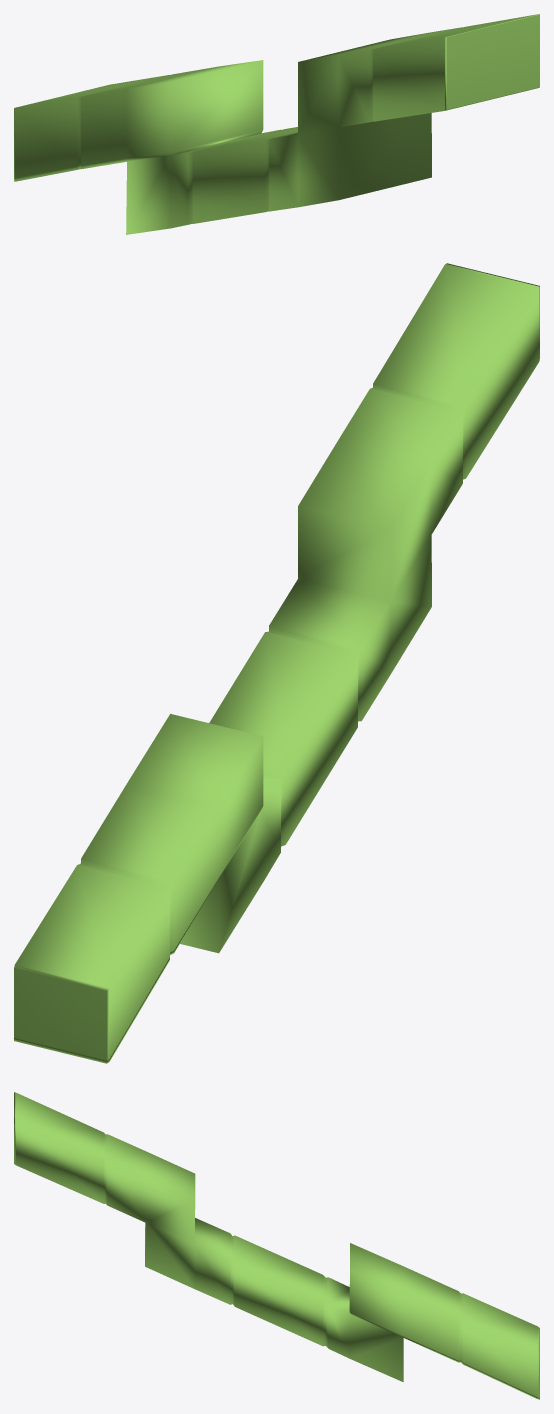
File: Wall_Battlements_01_D_Lod0.fbx
3 renders of one model, top to bottom at view 1: azimuth 30°, elevation 25°; view 2: azimuth 150°, elevation 25°; view 3: azimuth 270°, elevation 25°, orthographic. The views are drawn at different scales.
Visible parts, largest first — view 1: Wall_Battlements_01_D_Lod0; view 2: Wall_Battlements_01_D_Lod0; view 3: Wall_Battlements_01_D_Lod0.
Part boxes in pixels (x1=…): Wall_Battlements_01_D_Lod0: x1=14, y1=14, x2=539, y2=234; Wall_Battlements_01_D_Lod0: x1=14, y1=263, x2=539, y2=1063; Wall_Battlements_01_D_Lod0: x1=14, y1=1092, x2=539, y2=1399.
Size of the model in its own units: 38.29 by 178 by 303.
